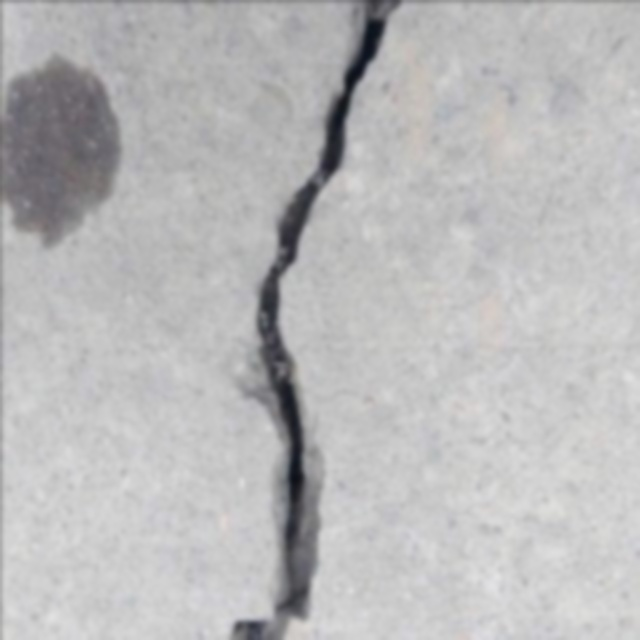SurfaceCrack: (210, 0, 434, 630)
